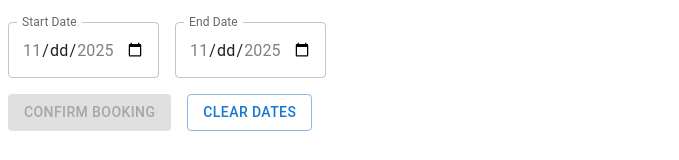
Scenario: BookingPicker › shows booking length and total price when valid dates selected
Type "2025-11-20" into the date field labelled "Start Date" at coordinates (84, 50), box top-left (8, 22), bottom-right (159, 78)
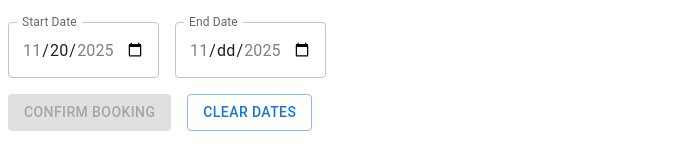
Type "2025-11-22" into the date field labelled "End Date" at coordinates (250, 50), box top-left (175, 22), bottom-right (326, 78)
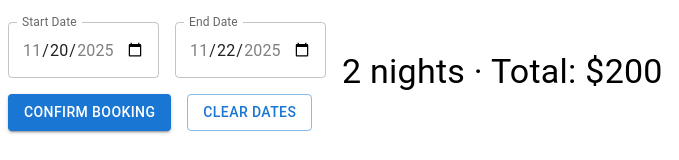
Check: the heading "2 nights · Total: $200" is shown, box top-left (342, 51), bottom-right (663, 93)
